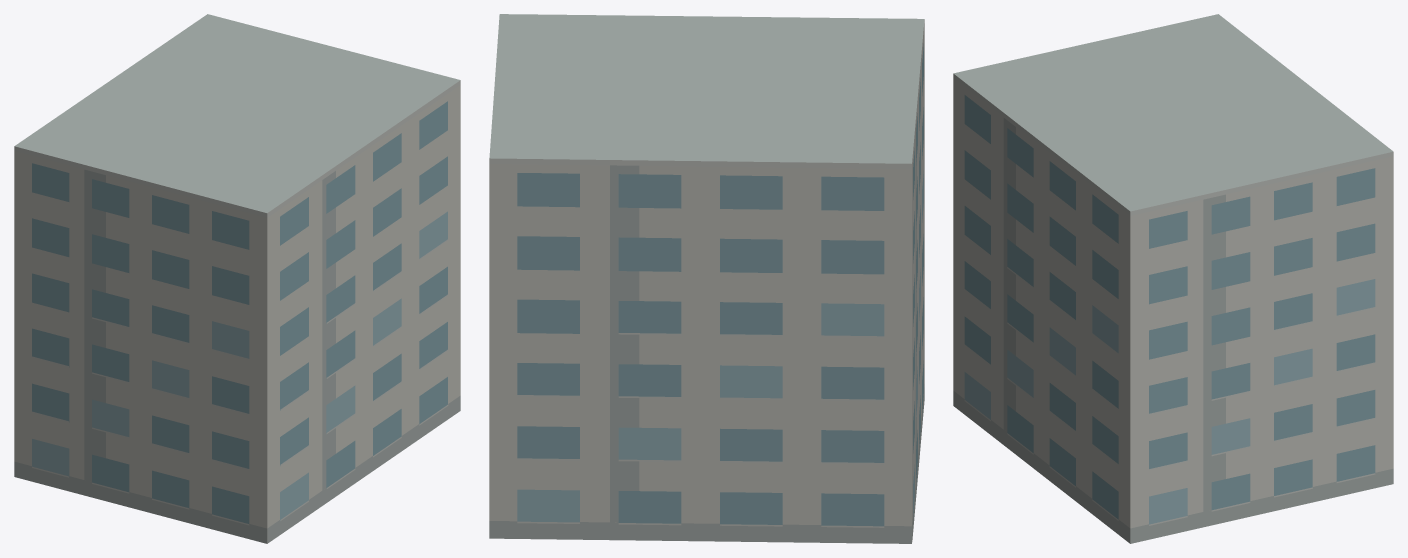
The model's file is survey-upis-32885940.glb.
3 renders of one model, left to right at view 1: azimuth 30°, elevation 25°; view 2: azimuth 150°, elevation 25°; view 3: azimuth 270°, elevation 25°, orthographic. The views are drawn at different scales.
Parts seen in each view (by area): view 1: survey-upis-32885940.tmp; view 2: survey-upis-32885940.tmp; view 3: survey-upis-32885940.tmp.
Boxes of the visible parts, x1,y1,x2,y2 form: survey-upis-32885940.tmp: (14,14,460,543); survey-upis-32885940.tmp: (489,14,924,543); survey-upis-32885940.tmp: (953,14,1393,543).
Size of the model in its own units: 21.8 by 17.1 by 20.54.
